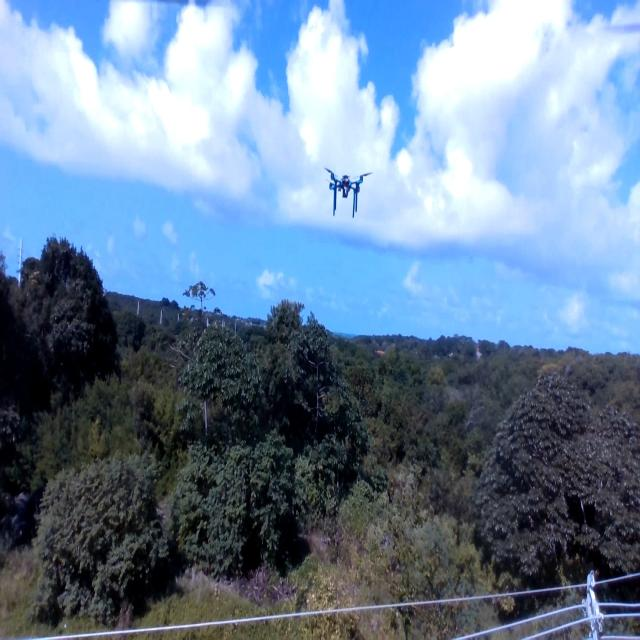-uav-: (318, 157, 374, 222)
